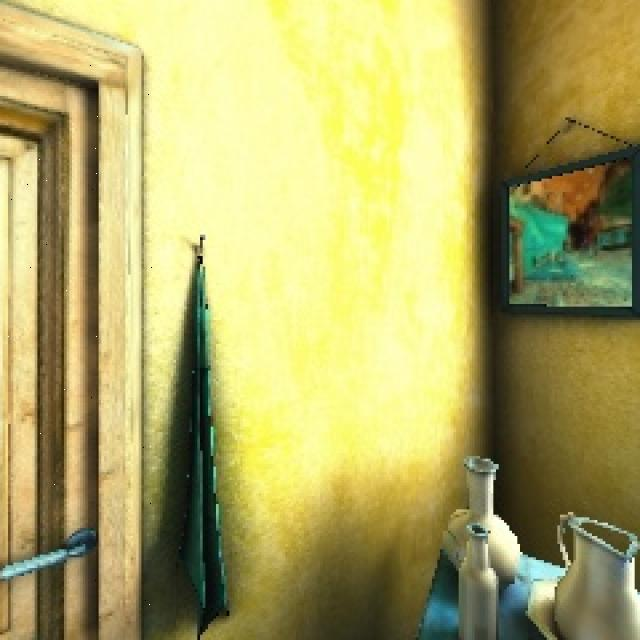door: (0, 61, 152, 640)
